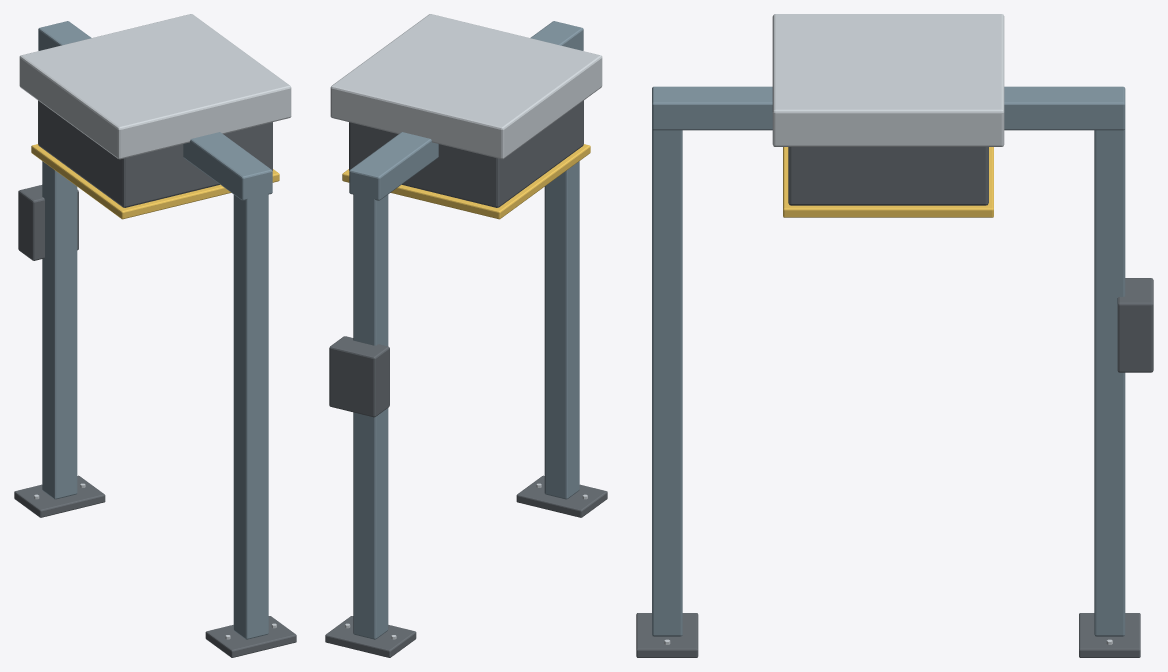
File: emitter_visual.glb
3 views of the same model, side by side, from view 1: azimuth 30°, elevation 25°; view 2: azimuth 150°, elevation 25°; view 3: azimuth 270°, elevation 25° (orthographic). The views are drawn at different scales.
Parts seen in each view (by area): view 1: ChuteTopHopper, GantryLeg_1, GantryLeg_-1, ChuteHousing, TopBeam, ChuteRim, ControlEnclosure, BasePlate_1, BasePlate_-1; view 2: ChuteTopHopper, GantryLeg_-1, GantryLeg_1, ChuteHousing, TopBeam, ControlEnclosure, ChuteRim, BasePlate_-1, BasePlate_1; view 3: ChuteTopHopper, GantryLeg_1, GantryLeg_-1, ChuteHousing, TopBeam, ChuteRim, ControlEnclosure, BasePlate_1, BasePlate_-1.
Part boxes in pixels (x1,y1,x2,y2): ChuteTopHopper: [19, 14, 291, 159]; GantryLeg_1: [233, 189, 268, 639]; GantryLeg_-1: [42, 161, 77, 499]; ChuteHousing: [38, 100, 272, 207]; TopBeam: [38, 21, 272, 200]; ChuteRim: [31, 144, 279, 219]; ControlEnclosure: [18, 185, 78, 260]; BasePlate_1: [205, 616, 296, 657]; BasePlate_-1: [14, 475, 105, 517]; ChuteTopHopper: [330, 14, 602, 159]; GantryLeg_-1: [353, 189, 388, 639]; GantryLeg_1: [544, 161, 579, 499]; ChuteHousing: [349, 100, 583, 207]; TopBeam: [349, 21, 583, 200]; ControlEnclosure: [329, 336, 389, 417]; ChuteRim: [342, 144, 590, 219]; BasePlate_-1: [325, 616, 416, 657]; BasePlate_1: [516, 475, 607, 517]; ChuteTopHopper: [772, 14, 1004, 146]; GantryLeg_1: [652, 129, 682, 636]; GantryLeg_-1: [1094, 129, 1125, 636]; ChuteHousing: [788, 147, 988, 205]; TopBeam: [652, 86, 1125, 130]; ChuteRim: [783, 147, 993, 217]; ControlEnclosure: [1117, 278, 1153, 372]; BasePlate_1: [636, 613, 698, 657]; BasePlate_-1: [1079, 613, 1140, 657].
Bounding box in the file's own units: 0.9 × 2.48 × 2.01.
